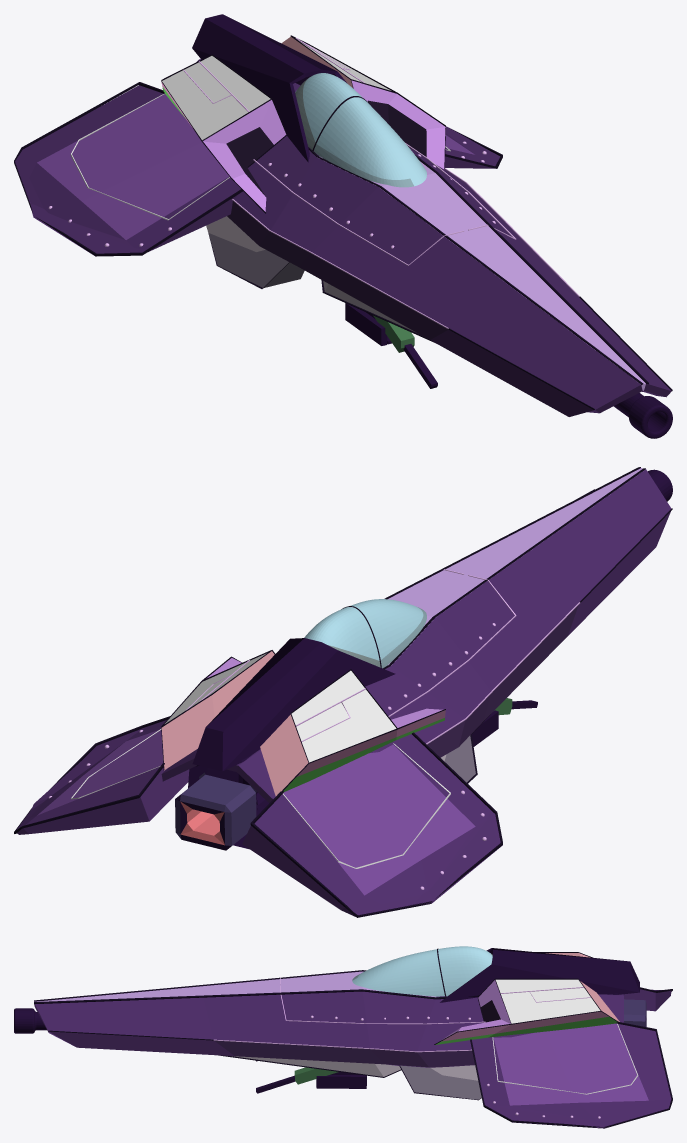
File: Shipmain.fbx
The picture shows the model from 3 angles, top to bottom: view 1: azimuth 30°, elevation 25°; view 2: azimuth 150°, elevation 25°; view 3: azimuth 270°, elevation 25°; orthographic projection. The views are drawn at different scales.
Visible parts, largest first — view 1: Plane, Plane.006, Plane.005, Plane.001, Cube.001, Plane.004, Cube.002, Plane.017, Plane.019, Circle, Plane.013, Plane.018 (+3 smaller); view 2: Plane.006, Plane, Plane.005, Plane.001, Plane.009, Cube.001, Plane.019, Cube.002, Plane.017, Plane.018, Plane.004, Plane.011; view 3: Plane, Plane.006, Plane.005, Plane.001, Cube.001, Plane.004, Plane.017, Cube.002, Plane.003, Plane.019, Plane.007, Plane.008 (+7 smaller).
Boxes of the visible parts, left/top/right/bottom form: Plane: left=197, top=59, right=671, bottom=416; Plane.006: left=15, top=85, right=500, bottom=255; Plane.005: left=161, top=36, right=445, bottom=211; Plane.001: left=192, top=14, right=347, bottom=162; Cube.001: left=312, top=96, right=426, bottom=187; Plane.004: left=206, top=216, right=304, bottom=287; Cube.002: left=295, top=73, right=362, bottom=149; Plane.017: left=308, top=147, right=648, bottom=385; Plane.019: left=14, top=82, right=502, bottom=256; Circle: left=613, top=393, right=672, bottom=438; Plane.013: left=232, top=168, right=672, bottom=409; Plane.018: left=161, top=35, right=445, bottom=213; Plane.006: left=16, top=720, right=502, bottom=916; Plane: left=161, top=468, right=671, bottom=802; Plane.005: left=161, top=651, right=445, bottom=796; Plane.001: left=192, top=638, right=395, bottom=771; Plane.009: left=175, top=765, right=268, bottom=850; Cube.001: left=341, top=599, right=426, bottom=668; Plane.019: left=14, top=716, right=502, bottom=917; Cube.002: left=304, top=607, right=380, bottom=667; Plane.017: left=383, top=467, right=645, bottom=669; Plane.018: left=161, top=650, right=445, bottom=792; Plane.004: left=441, top=735, right=475, bottom=782; Plane.011: left=71, top=729, right=450, bottom=868; Plane: left=34, top=971, right=623, bottom=1067; Plane.006: left=472, top=989, right=671, bottom=1128; Plane.005: left=435, top=953, right=619, bottom=1044; Plane.001: left=440, top=948, right=639, bottom=1002; Cube.001: left=352, top=948, right=445, bottom=996; Plane.004: left=400, top=1065, right=481, bottom=1099; Plane.017: left=34, top=970, right=479, bottom=1004; Cube.002: left=438, top=946, right=492, bottom=996; Plane.003: left=232, top=1056, right=400, bottom=1076; Plane.019: left=470, top=987, right=672, bottom=1128; Plane.007: left=316, top=1072, right=366, bottom=1088; Plane.008: left=256, top=1060, right=338, bottom=1093.
Size of the model in its own units: 459 by 201 by 924.
